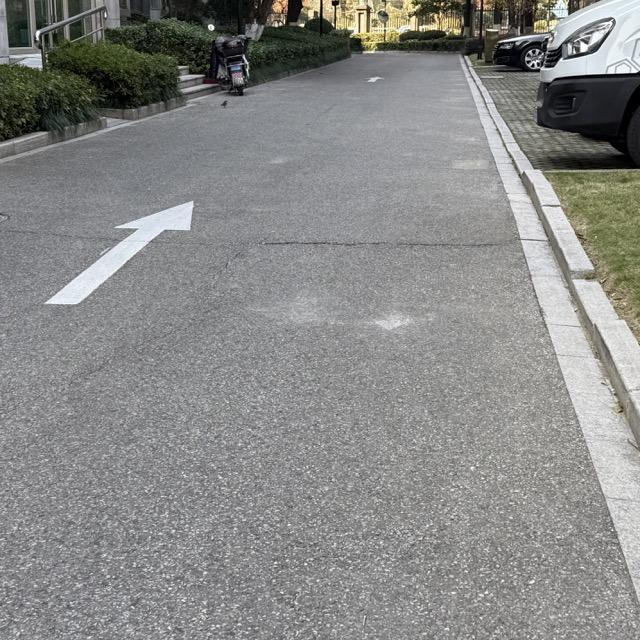curb: (468, 65, 639, 447), (0, 92, 185, 159)
